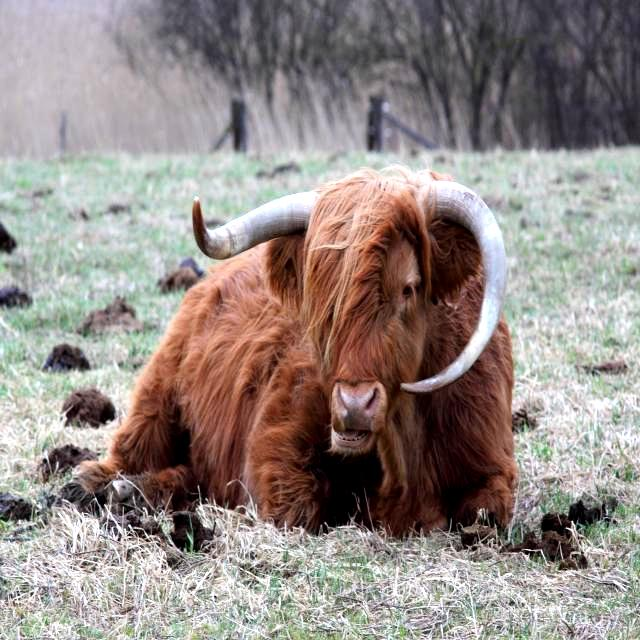COW: (79, 167, 516, 536)
